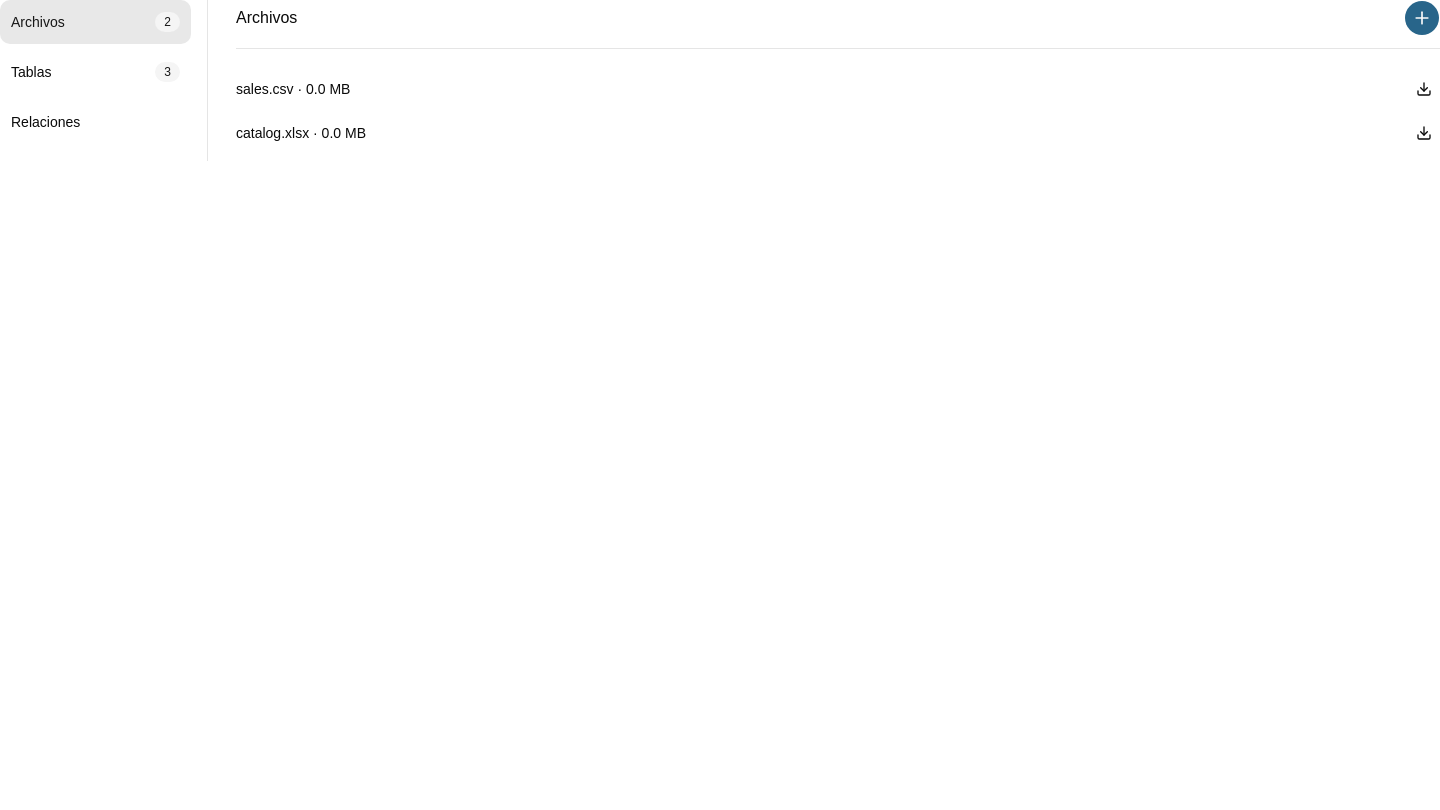
Scenario: keeps failed tables visibly unavailable and lets a failed preview retry
This screenshot has width=1440, height=810.
Click the button "Tablas 3" at (96, 72), box x1=0 y1=50 x2=191 y2=94
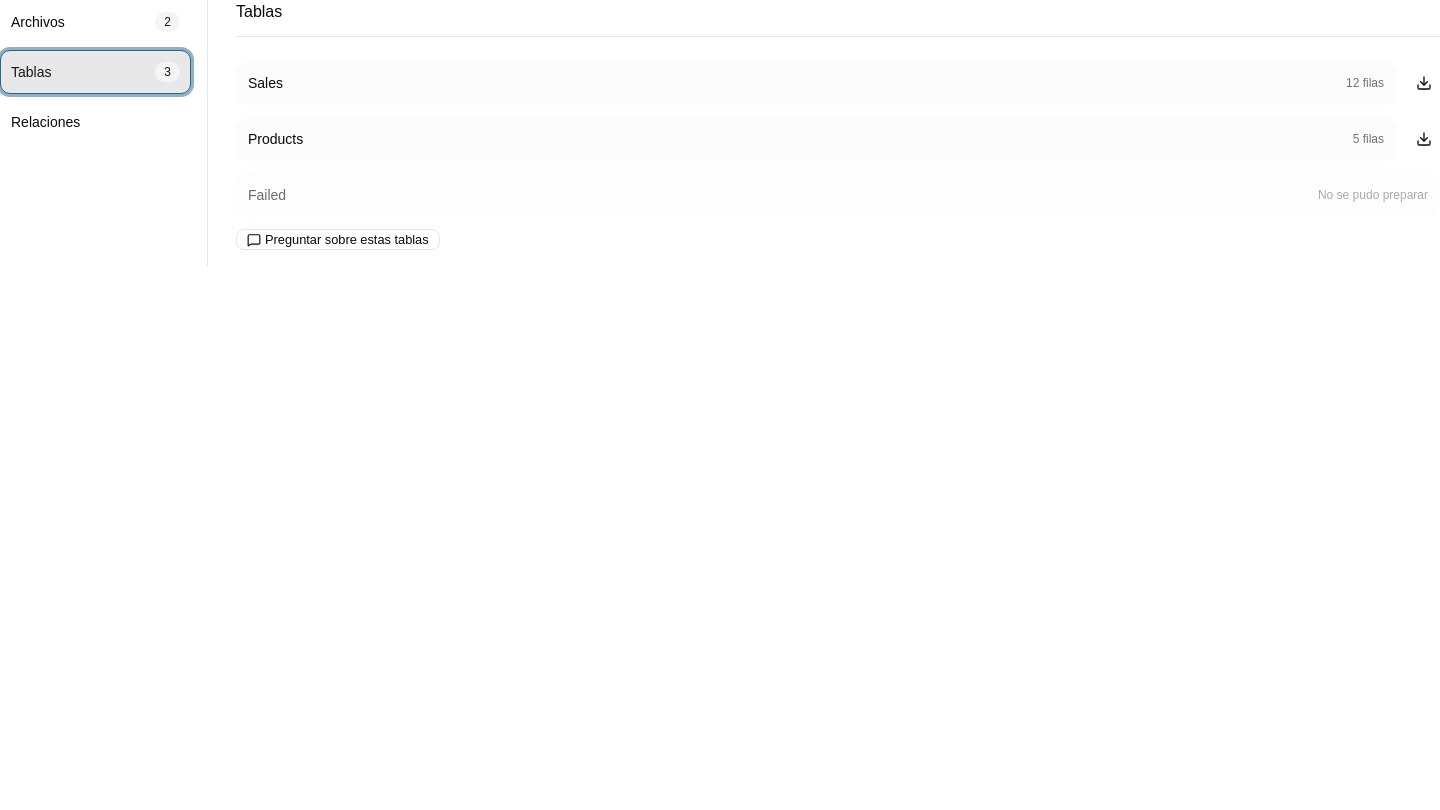
Now the button with aria-label "Ver tabla Failed" is disabled, box x1=236 y1=173 x2=1439 y2=217
Click the button with aria-label "Ver tabla Products" at (276, 139), box x1=236 y1=117 x2=1396 y2=161
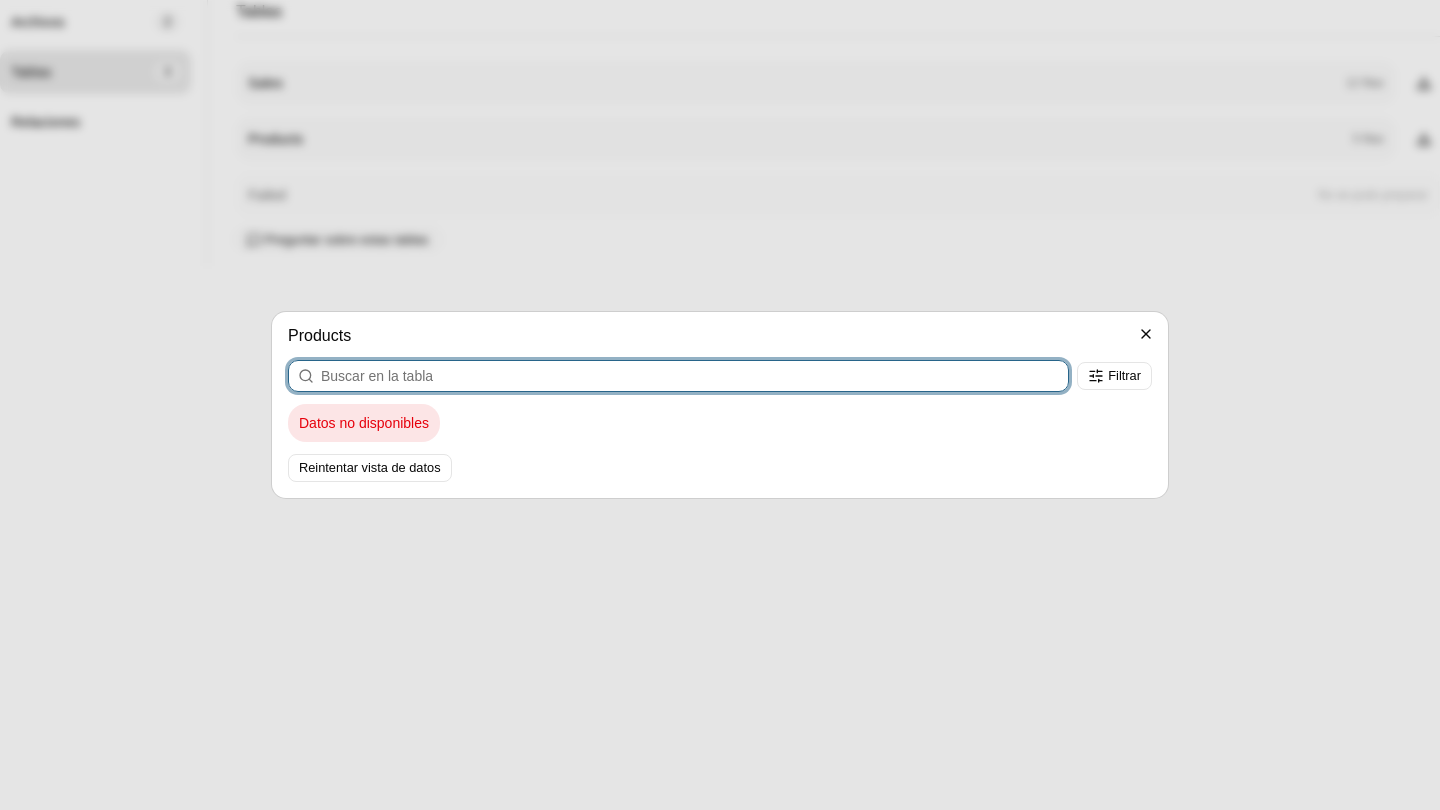
Now the text "Datos no disponibles" is shown, box x1=299 y1=413 x2=429 y2=433
Now the button "Reintentar vista de datos" is shown, box x1=288 y1=454 x2=452 y2=482
